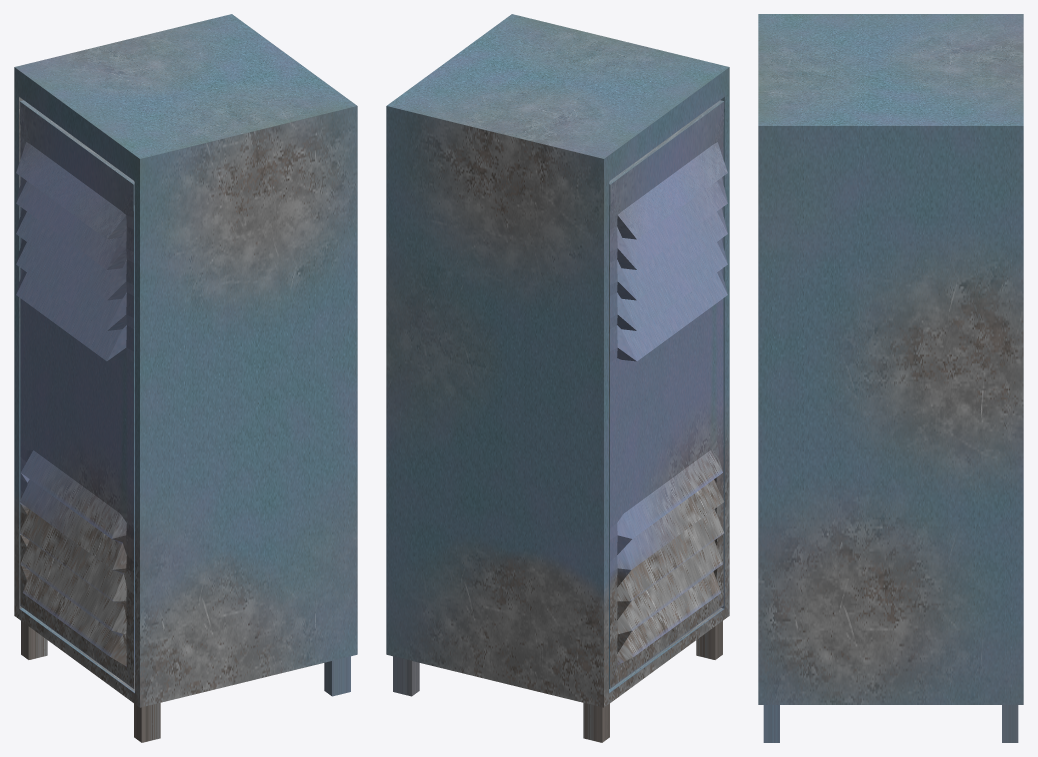
Rendered from locker (1) 1.fbx.
3 renders of one model, left to right at view 1: azimuth 30°, elevation 25°; view 2: azimuth 150°, elevation 25°; view 3: azimuth 270°, elevation 25°, orthographic. The views are drawn at different scales.
Parts seen in each view (by area): view 1: Cube, Cube.001; view 2: Cube, Cube.001; view 3: Cube.
Boxes of the visible parts, bbox=[...] form: Cube: bbox=[14, 14, 357, 742]; Cube.001: bbox=[16, 100, 134, 688]; Cube: bbox=[386, 14, 729, 742]; Cube.001: bbox=[609, 100, 727, 688]; Cube: bbox=[758, 14, 1023, 742].
Size of the model in its own units: 82.12 by 197 by 76.59.
